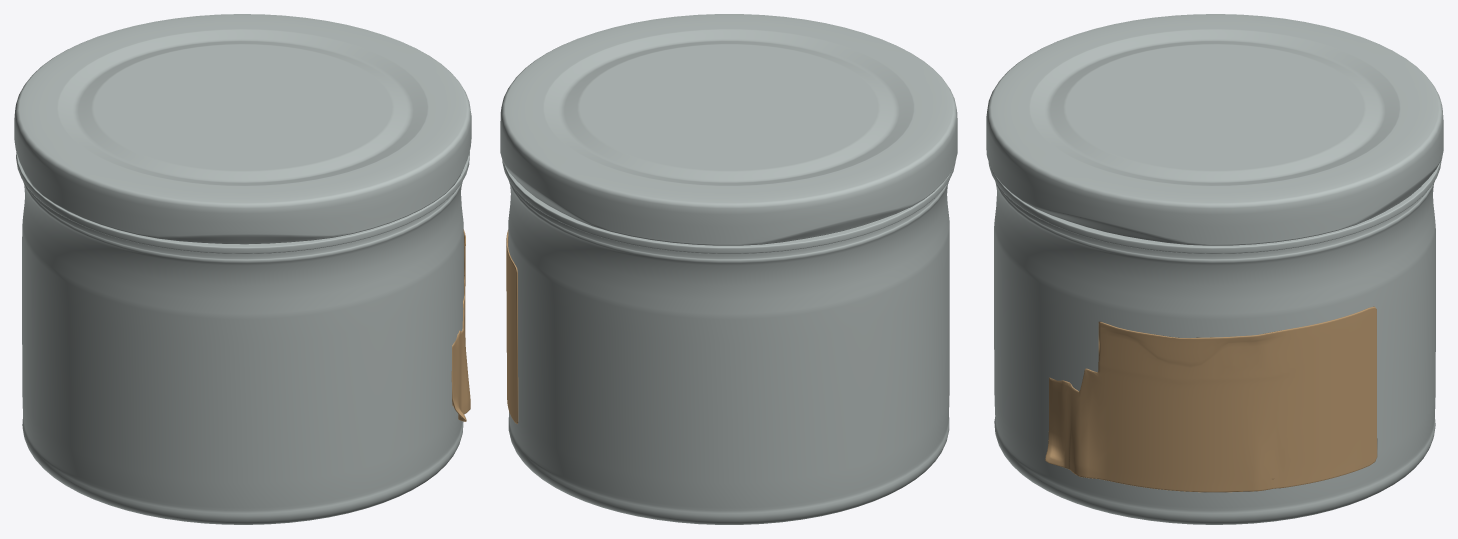
File: paint_container_jar_green_a01.glb
The picture shows the model from 3 angles, left to right: view 1: azimuth 30°, elevation 25°; view 2: azimuth 150°, elevation 25°; view 3: azimuth 270°, elevation 25°; orthographic projection.
Size of the model in its own units: 0.0969 by 0.0769 by 0.0969.
